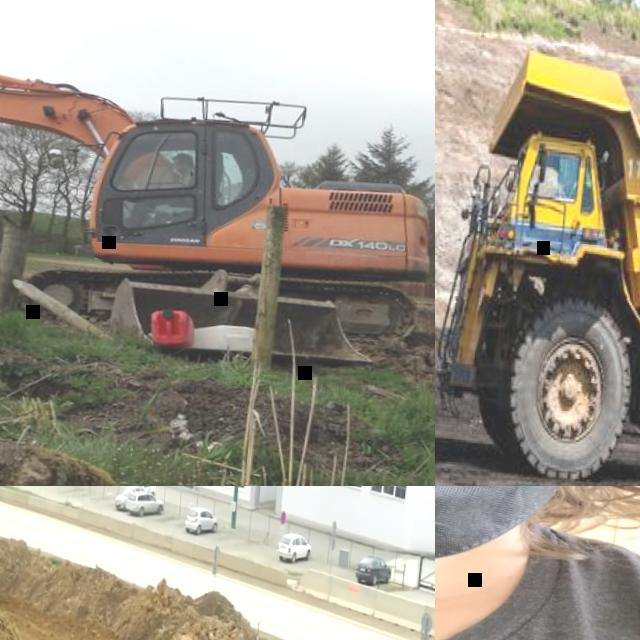Mask: (435, 486, 587, 574)
NO-Hardhat: (171, 151, 192, 163)
NO-Safety Vest: (435, 506, 640, 640)
Person: (435, 486, 640, 640), (122, 146, 198, 233), (561, 167, 595, 213)
Safety Cone: (346, 584, 358, 593)
Safety Vest: (564, 177, 591, 202)
vehicle: (0, 1, 435, 373), (435, 36, 640, 486), (124, 490, 164, 520), (275, 532, 311, 565), (183, 507, 218, 538), (113, 486, 144, 512), (130, 486, 157, 497)
